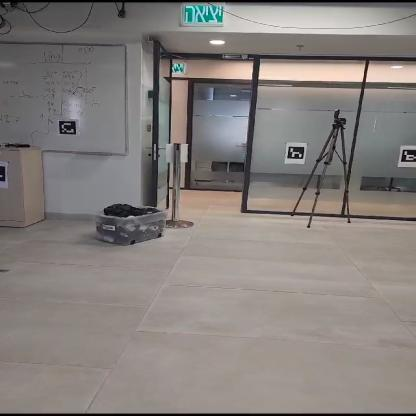open: (153, 76, 252, 213)
